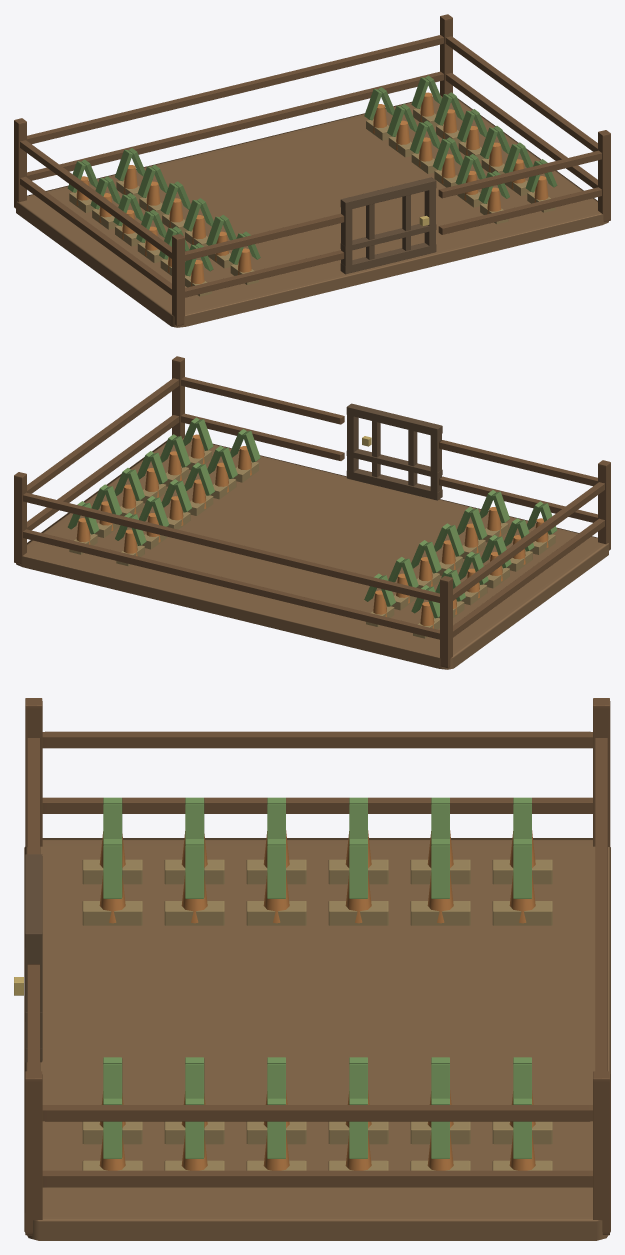
The model's file is vegetablefield-1.glb.
3 views of the same model, one above another, from view 1: azimuth 30°, elevation 25°; view 2: azimuth 150°, elevation 25°; view 3: azimuth 270°, elevation 25° (orthographic). The views are drawn at different scales.
Visible parts, largest first — view 1: vegetablefield-1-0, vegetable-crops, door-hinge; view 2: vegetablefield-1-0, vegetable-crops, door-hinge; view 3: vegetablefield-1-0, vegetable-crops, door-hinge.
Part boxes in pixels (x1,y1,x2,y2): vegetablefield-1-0: (14,14,610,327); vegetable-crops: (67,75,557,286); door-hinge: (340,177,436,274); vegetablefield-1-0: (14,356,610,669); vegetable-crops: (67,417,557,628); door-hinge: (346,403,442,500); vegetablefield-1-0: (24,698,610,1240); vegetable-crops: (99,797,535,1170); door-hinge: (14,854,42,1062).
Size of the model in its own units: 2.88 by 0.565 by 1.89.
